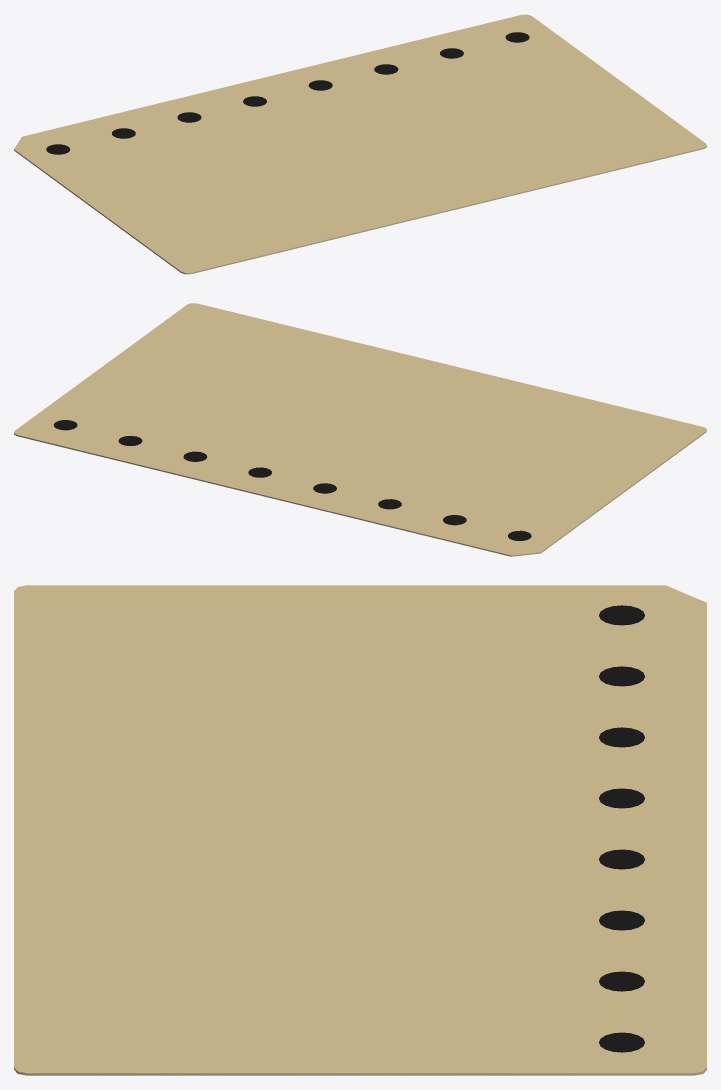
The model's file is request_card.glb.
The picture shows the model from 3 angles, top to bottom: view 1: azimuth 30°, elevation 25°; view 2: azimuth 150°, elevation 25°; view 3: azimuth 270°, elevation 25°; orthographic projection. The views are drawn at different scales.
Parts seen in each view (by area): view 1: card_face, request_card; view 2: card_face, request_card; view 3: card_face, request_card, hole_1, hole_4, hole_7, hole_2, hole_6.
Part boxes in pixels (x1,y1,x2,y2): card_face: (14, 14, 706, 273); request_card: (14, 146, 706, 274); card_face: (14, 303, 706, 555); request_card: (14, 429, 706, 556); card_face: (14, 585, 706, 1073); request_card: (14, 1068, 706, 1075); hole_1: (599, 666, 644, 686); hole_4: (599, 849, 644, 869); hole_7: (599, 1032, 644, 1052); hole_2: (599, 727, 644, 747); hole_6: (599, 971, 644, 991).
Bounding box in the file's own units: 0.125 × 0.0004 × 0.075.
